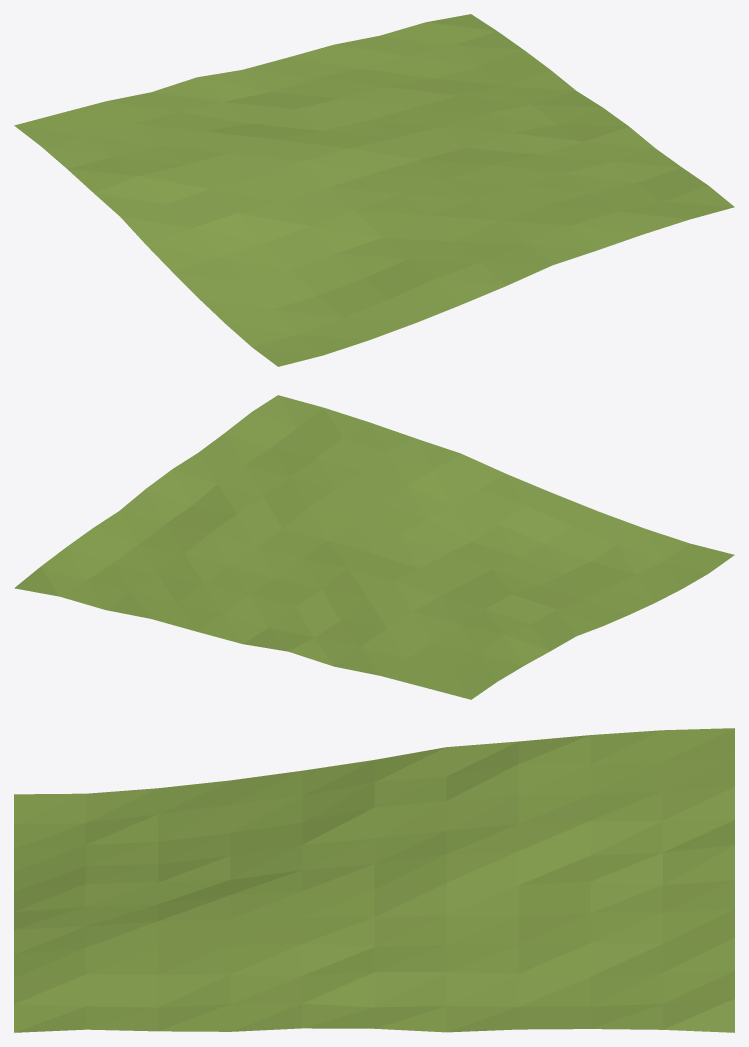
The model's file is terrain-plane_03-3.fbx.
The picture shows the model from 3 angles, top to bottom: view 1: azimuth 30°, elevation 25°; view 2: azimuth 150°, elevation 25°; view 3: azimuth 270°, elevation 25°; orthographic projection. The views are drawn at different scales.
Parts seen in each view (by area): view 1: terrain-plane_03-3; view 2: terrain-plane_03-3; view 3: terrain-plane_03-3.
Part boxes in pixels (x1=…): terrain-plane_03-3: x1=14, y1=14, x2=734, y2=366; terrain-plane_03-3: x1=14, y1=395, x2=734, y2=699; terrain-plane_03-3: x1=14, y1=728, x2=734, y2=1032.
Bounding box in the file's own units: 2000 × 217 × 2000.
